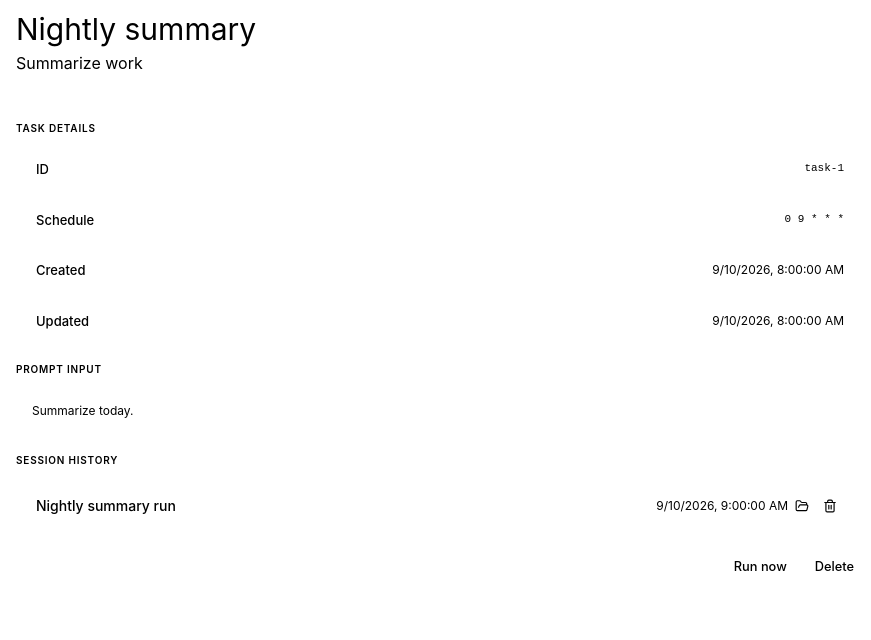
Scenario: deletes a session from its history item
This screenshot has width=871, height=640.
Click the button named "Delete session history": (830,506) top-left (816, 492), bottom-right (844, 520)
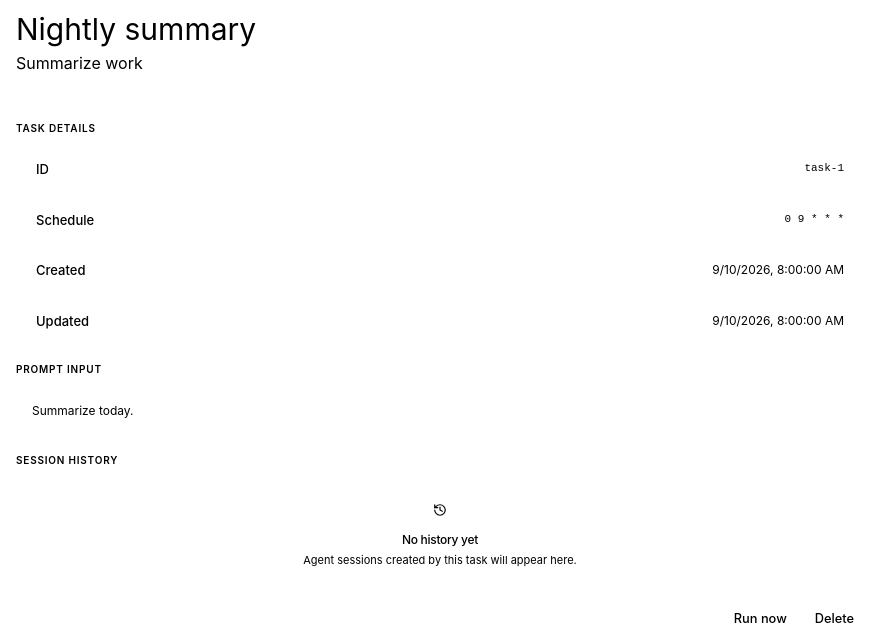
Result: the text "No history yet" is shown at top-left (402, 532), bottom-right (478, 548)
